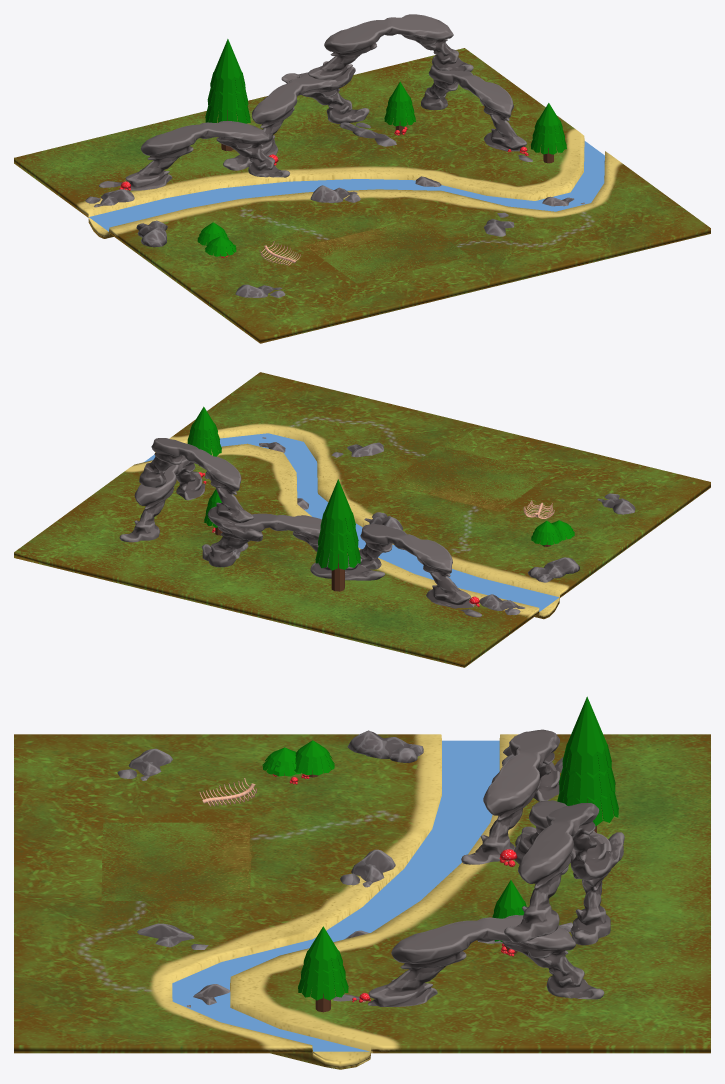
Rendered from map_meteorite.glb.
3 renders of one model, top to bottom at view 1: azimuth 30°, elevation 25°; view 2: azimuth 150°, elevation 25°; view 3: azimuth 270°, elevation 25°, orthographic. The views are drawn at different scales.
Parts seen in each view (by area): view 1: world, stone, water, arene, tree, mini_stone; view 2: world, stone, arene, tree, water, mini_stone; view 3: world, stone, water, arene, tree, mini_stone, Rib.
Boxes of the visible parts, box(x1,y1,x2,y2) form: world: box(14, 48, 710, 343); stone: box(99, 14, 532, 190); water: box(89, 141, 604, 231); arene: box(303, 219, 470, 284); tree: box(197, 39, 566, 256); mini_stone: box(85, 122, 584, 297); world: box(14, 372, 710, 667); stone: box(119, 438, 481, 617); arene: box(388, 446, 554, 511); tree: box(187, 406, 574, 591); water: box(144, 433, 558, 611); mini_stone: box(232, 437, 635, 615); world: box(14, 734, 710, 1069); stone: box(333, 729, 624, 1006); water: box(172, 740, 499, 1051); arene: box(98, 822, 251, 902); tree: box(262, 696, 618, 1012); mini_stone: box(117, 730, 572, 1007); Rib: box(199, 778, 256, 806).
Size of the model in its own units: 20.02 by 5.46 by 18.93.
Materials: 8 (5 with a texture image).
